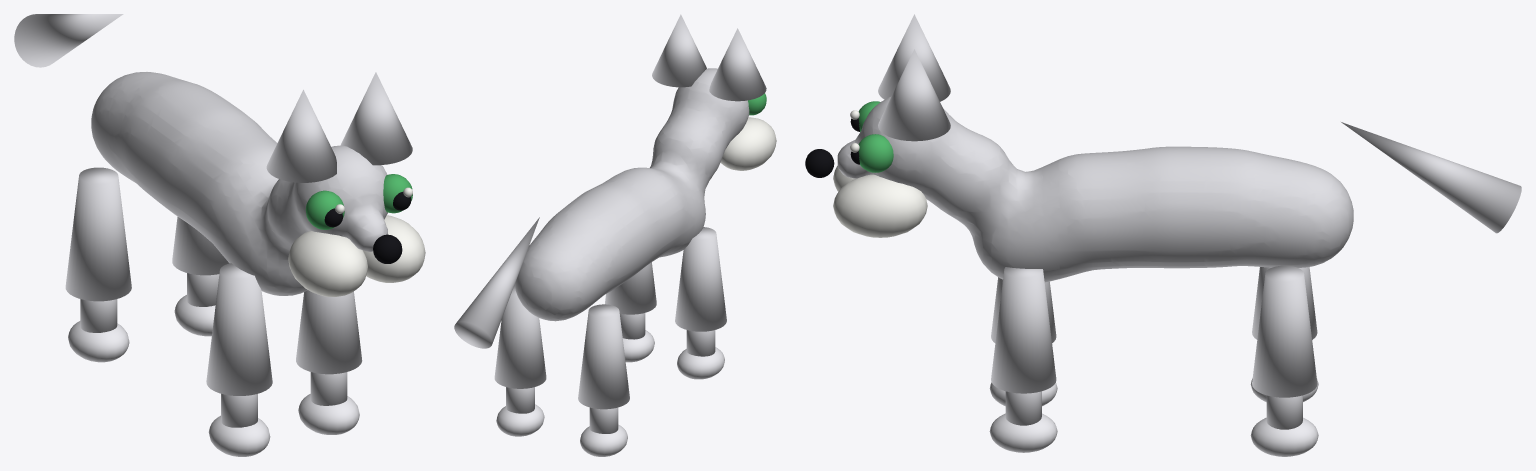
Rendered from Kitten.obj.
3 renders of one model, left to right at view 1: azimuth 30°, elevation 25°; view 2: azimuth 150°, elevation 25°; view 3: azimuth 270°, elevation 25°, orthographic. The views are drawn at different scales.
Visible parts, largest first — view 1: Kitten; view 2: Kitten; view 3: Kitten.
Boxes of the visible parts, x1,y1,x2,y2 form: Kitten: [14, 14, 425, 456]; Kitten: [454, 14, 776, 456]; Kitten: [805, 14, 1521, 456].
Bounding box in the file's own units: 1.54 × 3.6 × 5.9.
